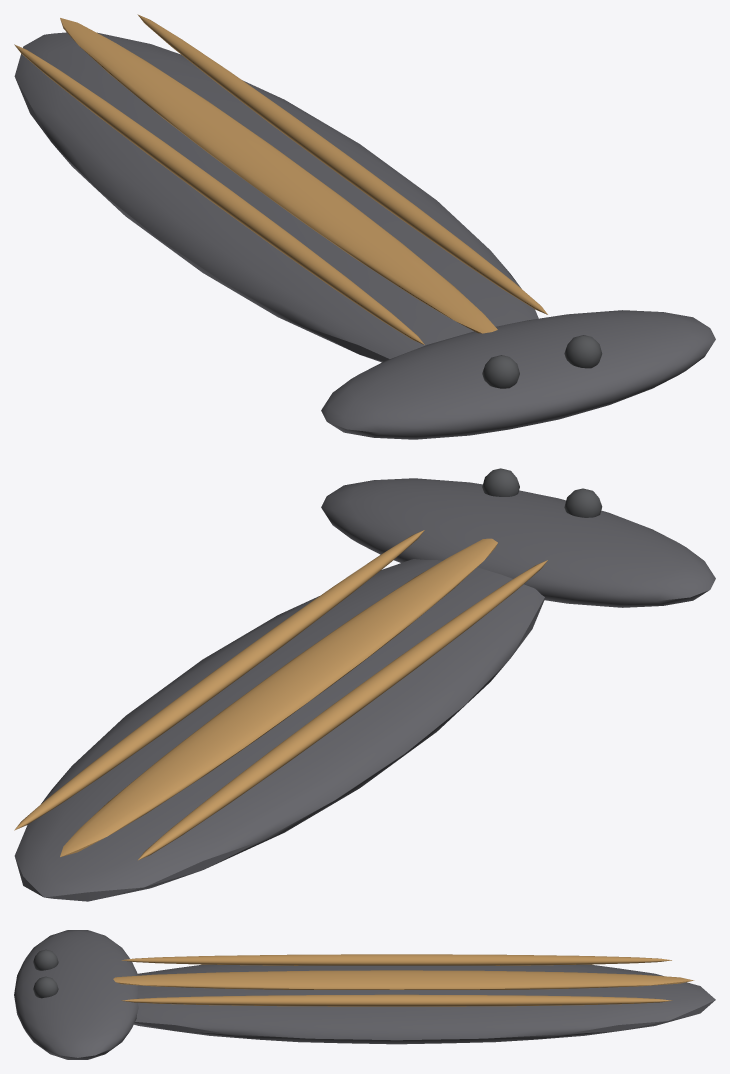
The model's file is platydemus-manokwari.glb.
3 renders of one model, top to bottom at view 1: azimuth 30°, elevation 25°; view 2: azimuth 150°, elevation 25°; view 3: azimuth 270°, elevation 25°, orthographic. The views are drawn at different scales.
Visible parts, largest first — view 1: body, headfan, stripe, stripe3, stripe2, eye-1, eye1; view 2: body, headfan, stripe, stripe3, stripe2, eye-1, eye1; view 3: body, headfan, stripe, stripe2, stripe3, eye1, eye-1.
Part boxes in pixels (box(x1,y1,x2,y2)): body: box(14, 32, 538, 362); headfan: box(321, 310, 715, 439); stripe: box(60, 18, 497, 333); stripe3: box(14, 44, 424, 344); stripe2: box(137, 14, 547, 314); eye-1: box(482, 355, 519, 388); eye1: box(564, 335, 602, 368); body: box(14, 559, 545, 901); headfan: box(321, 478, 715, 607); stripe: box(60, 538, 497, 856); stripe3: box(137, 560, 547, 860); stripe2: box(14, 530, 424, 830); eye-1: box(564, 488, 602, 517); eye1: box(482, 468, 519, 496); body: box(134, 964, 715, 1044); headfan: box(14, 930, 138, 1059); stripe: box(113, 970, 694, 989); stripe2: box(121, 994, 672, 1006); stripe3: box(122, 954, 671, 965); eye1: box(33, 976, 58, 998); eye-1: box(33, 949, 58, 970).
Size of the model in its own units: 0.28 by 0.057 by 0.66.
